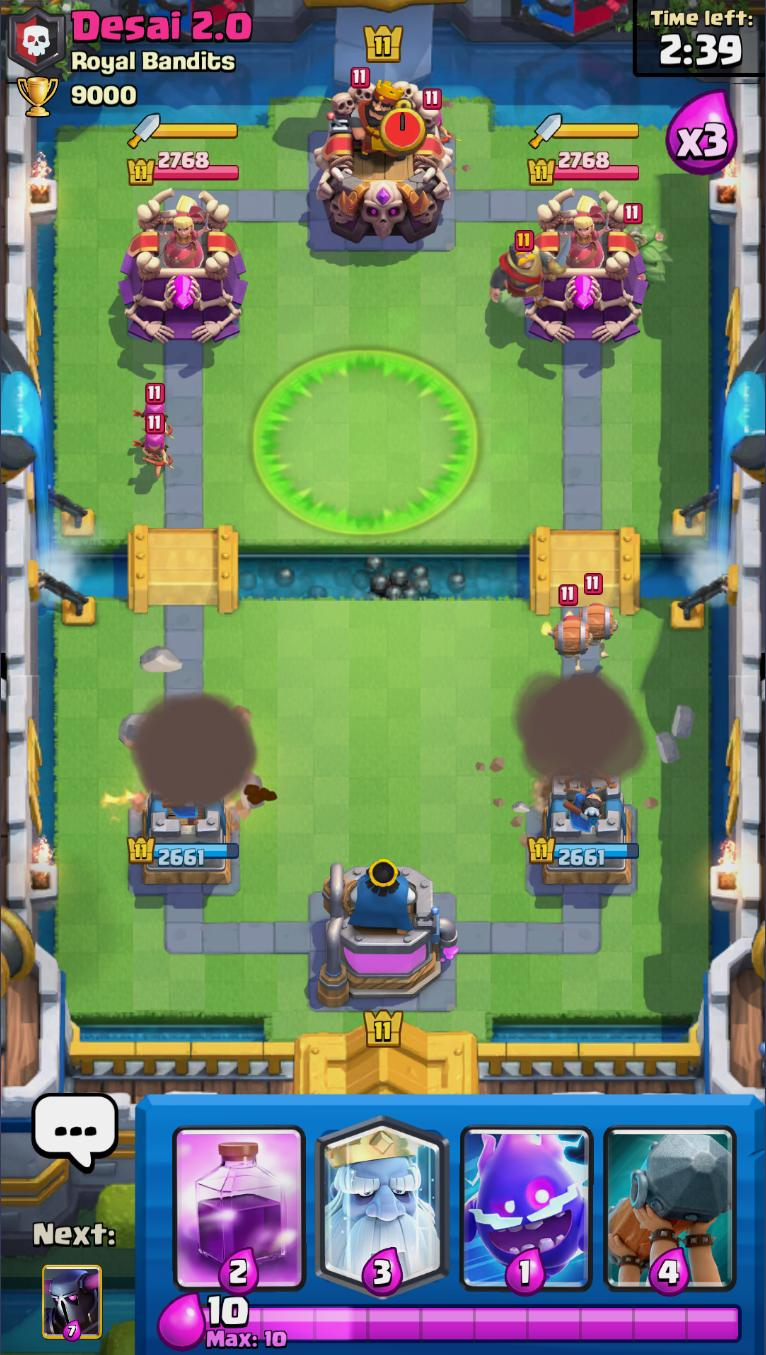Archer: (132, 413, 174, 482), (133, 382, 170, 433)
BattleRamDeck: (599, 1095, 742, 1294)
Bush: (616, 203, 676, 288)
DaggerDuchess: (160, 193, 211, 272), (561, 195, 612, 270)
Daggers: (127, 112, 239, 150), (529, 113, 640, 148)
ElectroSpiritDeck: (453, 1096, 601, 1295)
Elixir: (204, 1294, 745, 1351)
EnemyTower: (116, 186, 250, 345), (518, 186, 650, 344)
GoblinCurse: (250, 345, 480, 538)
KingTower: (312, 79, 457, 245)
Knight: (489, 230, 572, 310)
MyKingTower: (311, 860, 460, 1010)
MyPrincessTower: (524, 770, 643, 896), (125, 771, 243, 894)
MyPrincessTowerHP: (124, 834, 241, 872), (524, 833, 642, 869)
PekkaNext: (41, 1261, 104, 1342)
RageDeck: (170, 1096, 310, 1294)
RoyaleGhostDeck: (310, 1096, 454, 1295)
TowerPrincessHP: (527, 149, 642, 187), (126, 149, 240, 187)
WallBreakers: (542, 582, 593, 674), (582, 574, 620, 659)
